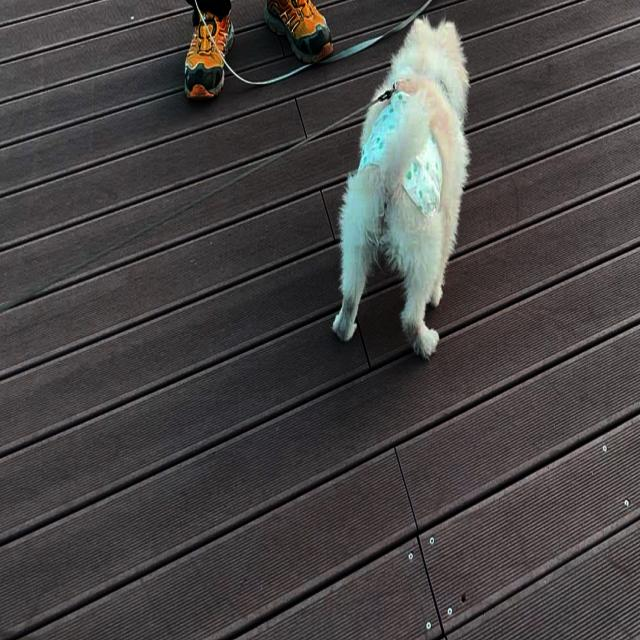Dog: (331, 17, 472, 361)
